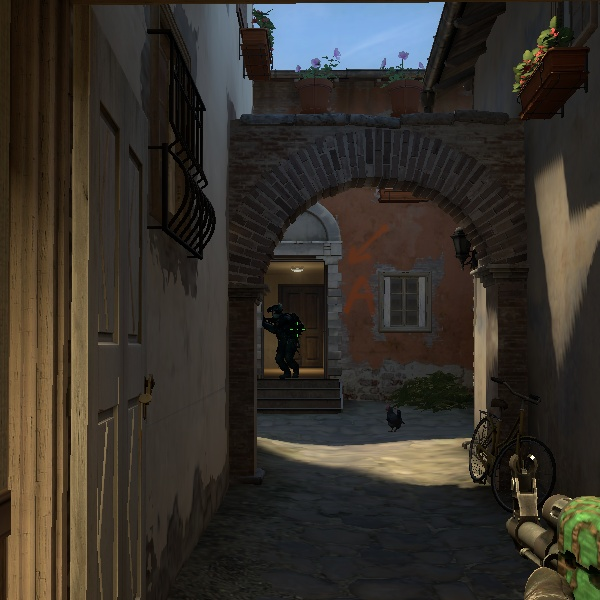ct_body: (262, 298, 306, 380)
